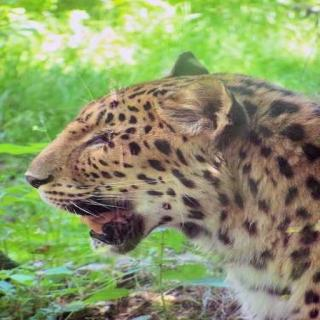Leopard: (21, 49, 320, 296)
